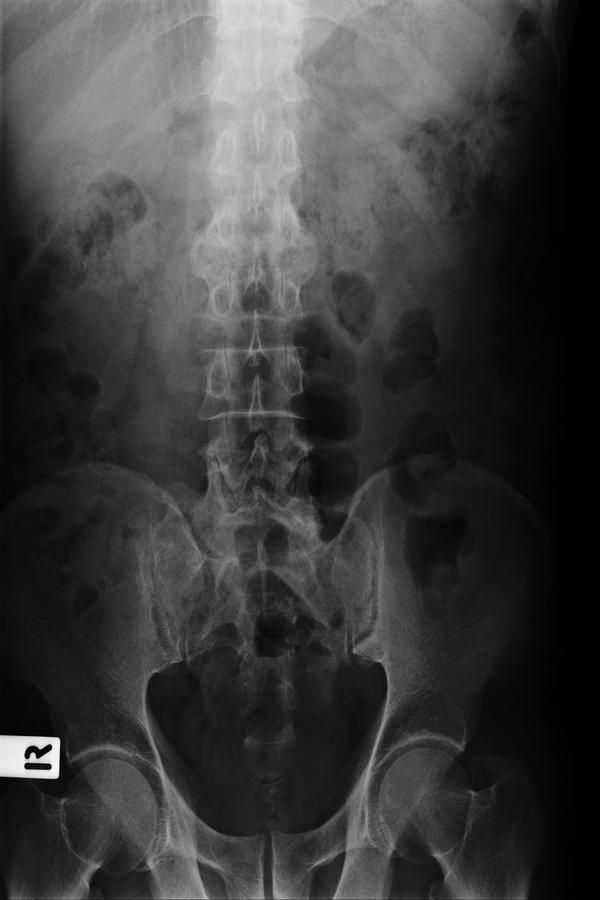lumbar scoliosis: (195, 15, 313, 558)
